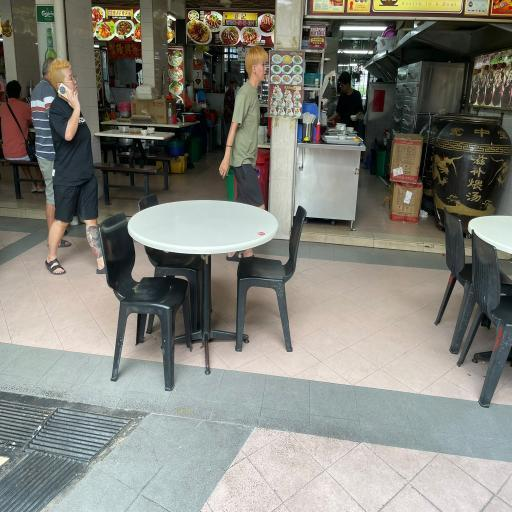person_right: (40, 55, 106, 283), (218, 42, 269, 204)
